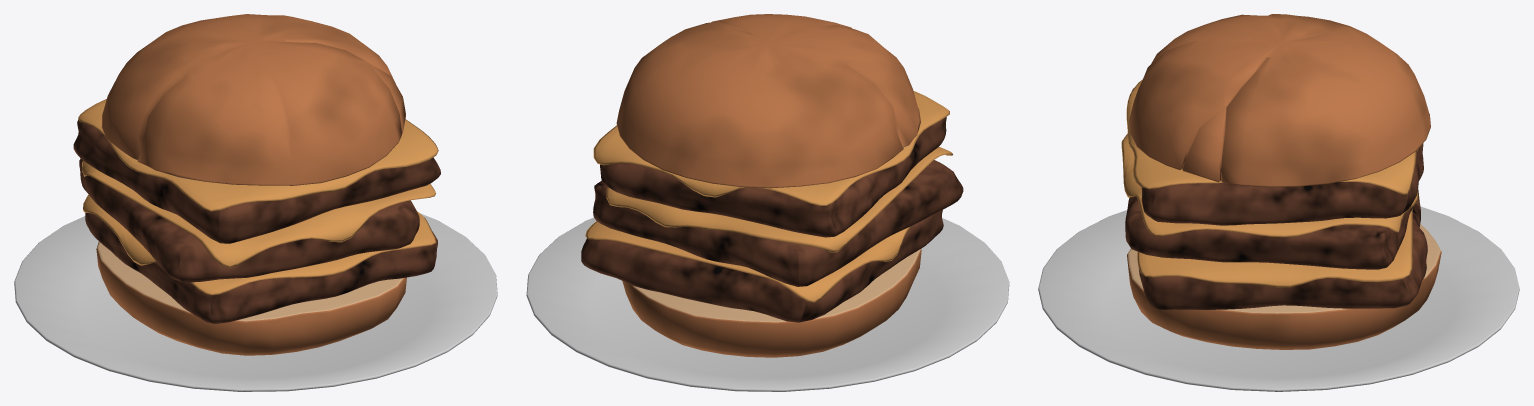
Rendered from 3December2020_Day11_Burger_v1.fbx.
3 renders of one model, left to right at view 1: azimuth 30°, elevation 25°; view 2: azimuth 150°, elevation 25°; view 3: azimuth 270°, elevation 25°, orthographic.
Parts seen in each view (by area): view 1: Burger_Bread_Top, Circle.001, Burger_Bread_Bottom, Burger_Burger.002, Burger_Burger.000, Burger_Burger.001, Burger_Cheese.000, Burger_Cheese.002, Burger_Cheese.001; view 2: Burger_Bread_Top, Circle.001, Burger_Bread_Bottom, Burger_Burger.002, Burger_Burger.001, Burger_Burger.000, Burger_Cheese.002, Burger_Cheese.000, Burger_Cheese.001; view 3: Burger_Bread_Top, Circle.001, Burger_Bread_Bottom, Burger_Burger.000, Burger_Burger.002, Burger_Burger.001, Burger_Cheese.001, Burger_Cheese.002, Burger_Cheese.000.
Boxes of the visible parts, <box> form: Burger_Bread_Top: <box>101,14,405,185</box>; Circle.001: <box>14,213,497,391</box>; Burger_Bread_Bottom: <box>96,241,406,355</box>; Burger_Burger.002: <box>79,158,419,282</box>; Burger_Burger.000: <box>73,119,440,243</box>; Burger_Burger.001: <box>85,213,437,323</box>; Burger_Cheese.000: <box>78,99,438,211</box>; Burger_Cheese.002: <box>82,161,435,267</box>; Burger_Cheese.001: <box>83,195,436,295</box>; Burger_Bread_Top: <box>616,14,920,188</box>; Circle.001: <box>526,217,1009,391</box>; Burger_Bread_Bottom: <box>622,249,921,357</box>; Burger_Burger.002: <box>593,160,963,286</box>; Burger_Burger.001: <box>581,210,943,322</box>; Burger_Burger.000: <box>600,117,946,237</box>; Burger_Cheese.002: <box>606,146,952,252</box>; Burger_Cheese.000: <box>593,91,949,205</box>; Burger_Cheese.001: <box>585,221,910,302</box>; Burger_Bread_Top: <box>1128,14,1430,186</box>; Circle.001: <box>1038,206,1519,391</box>; Burger_Bread_Bottom: <box>1127,224,1441,349</box>; Burger_Burger.000: <box>1131,88,1418,225</box>; Burger_Burger.002: <box>1125,143,1423,269</box>; Burger_Burger.001: <box>1138,189,1427,309</box>; Burger_Cheese.001: <box>1137,208,1412,287</box>; Burger_Cheese.002: <box>1121,133,1418,237</box>; Burger_Cheese.000: <box>1126,79,1416,194</box>.
Bounding box in the file's own units: 19.96 × 12.03 × 19.96.
